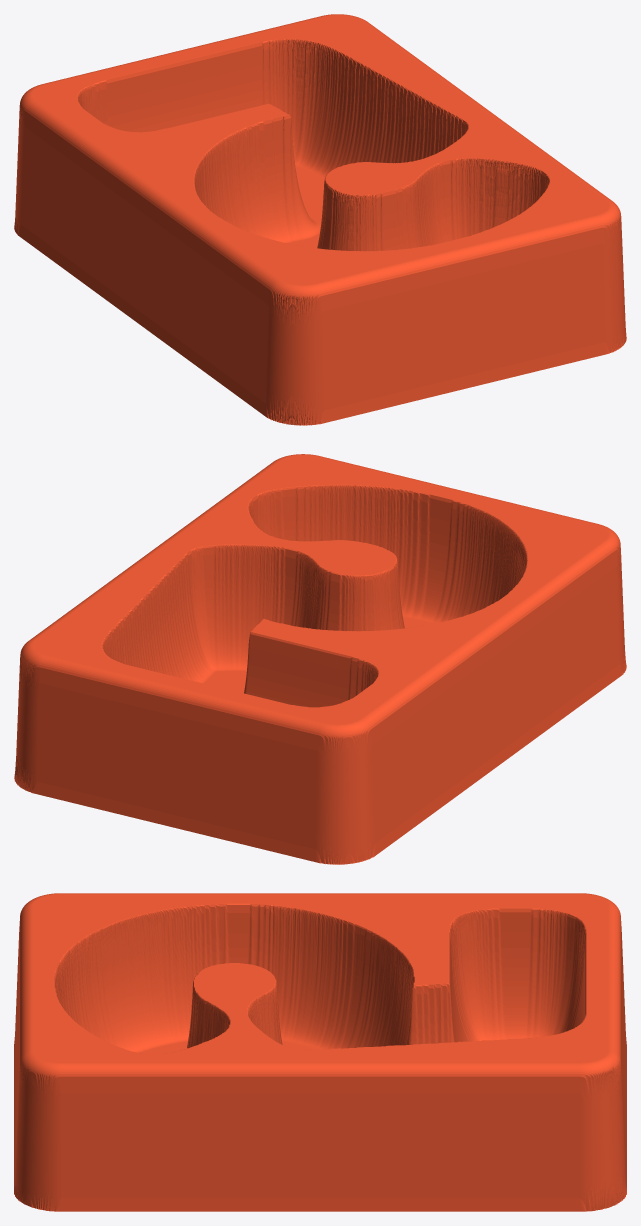
Rendered from mold.glb.
3 renders of one model, top to bottom at view 1: azimuth 30°, elevation 25°; view 2: azimuth 150°, elevation 25°; view 3: azimuth 270°, elevation 25°, orthographic. The views are drawn at different scales.
Parts seen in each view (by area): view 1: geometry_0; view 2: geometry_0; view 3: geometry_0.
Boxes of the visible parts, box(x1,y1,x2,y2) form: geometry_0: box(14, 14, 626, 425); geometry_0: box(14, 454, 626, 864); geometry_0: box(14, 893, 626, 1211).
Bounding box in the file's own units: 0.0838 × 0.0299 × 0.1178.
